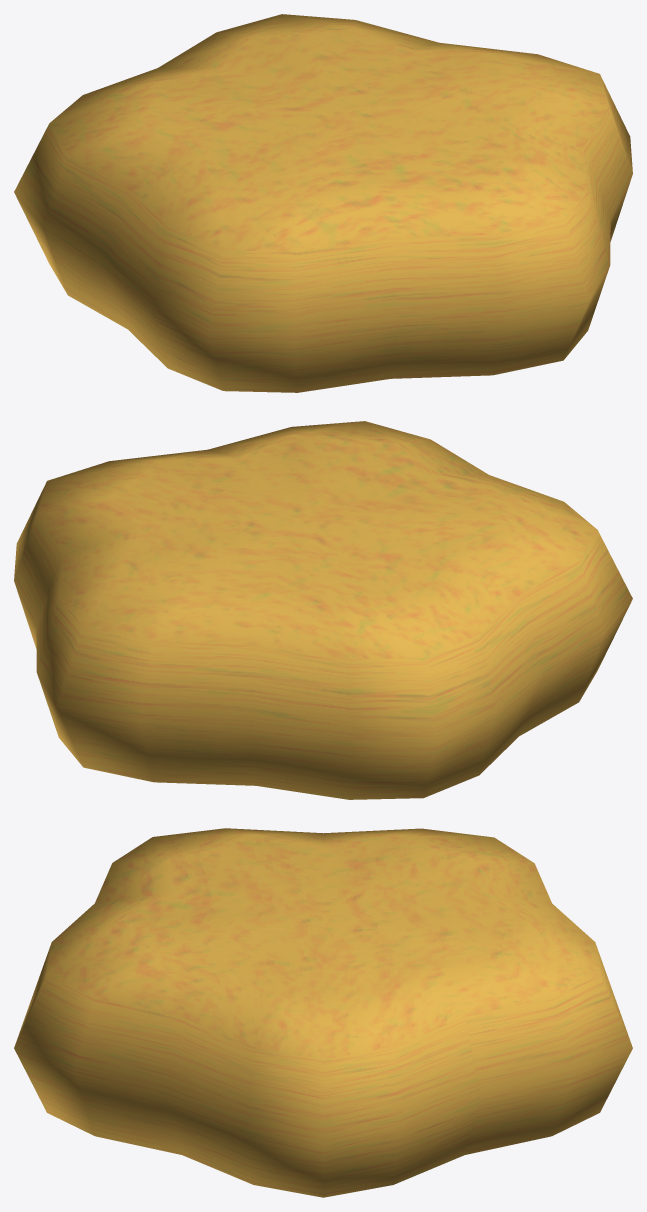
File: Cereal_Star_Yellow.fbx
3 views of the same model, one above another, from view 1: azimuth 30°, elevation 25°; view 2: azimuth 150°, elevation 25°; view 3: azimuth 270°, elevation 25° (orthographic).
Parts seen in each view (by area): view 1: pCylinder3; view 2: pCylinder3; view 3: pCylinder3.
Part boxes in pixels (x1=…): pCylinder3: x1=14, y1=14, x2=632, y2=392; pCylinder3: x1=14, y1=421, x2=632, y2=799; pCylinder3: x1=14, y1=828, x2=632, y2=1197.
Bounding box in the file's own units: 1.66 × 0.5592 × 1.7.
